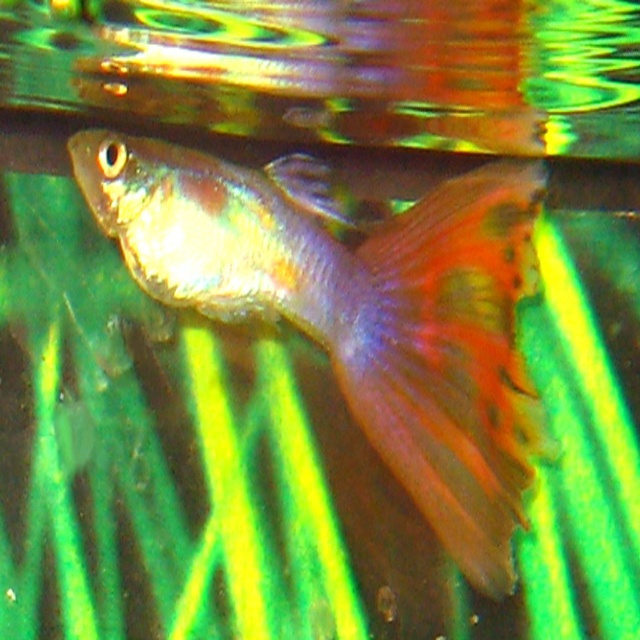Fish: (56, 117, 553, 586)
